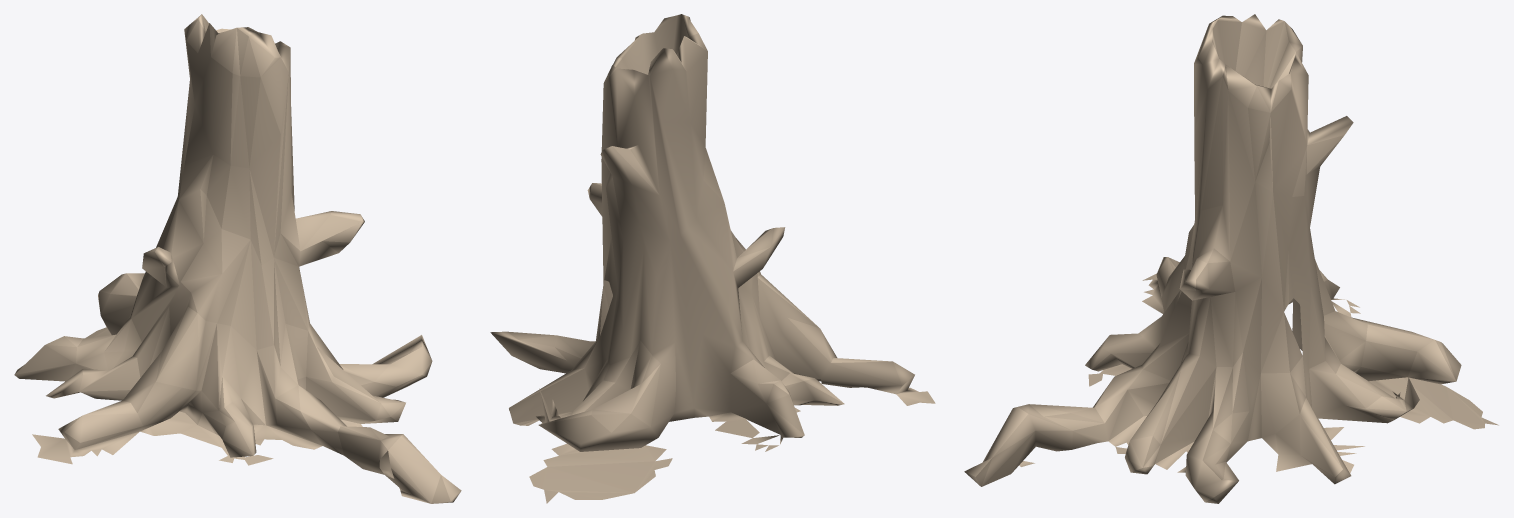
Rendered from terrain2_oak_0.glb.
The picture shows the model from 3 angles, left to right: view 1: azimuth 30°, elevation 25°; view 2: azimuth 150°, elevation 25°; view 3: azimuth 270°, elevation 25°; orthographic projection. The views are drawn at different scales.
Visible parts, largest first — view 1: oak_0; view 2: oak_0; view 3: oak_0.
Boxes of the visible parts, <box> form: oak_0: <box>14,14,461,503</box>; oak_0: <box>490,14,935,503</box>; oak_0: <box>964,14,1498,503</box>.
Size of the model in its own units: 37.78 by 35.59 by 40.93.
Materials: 1 (1 with a texture image).
